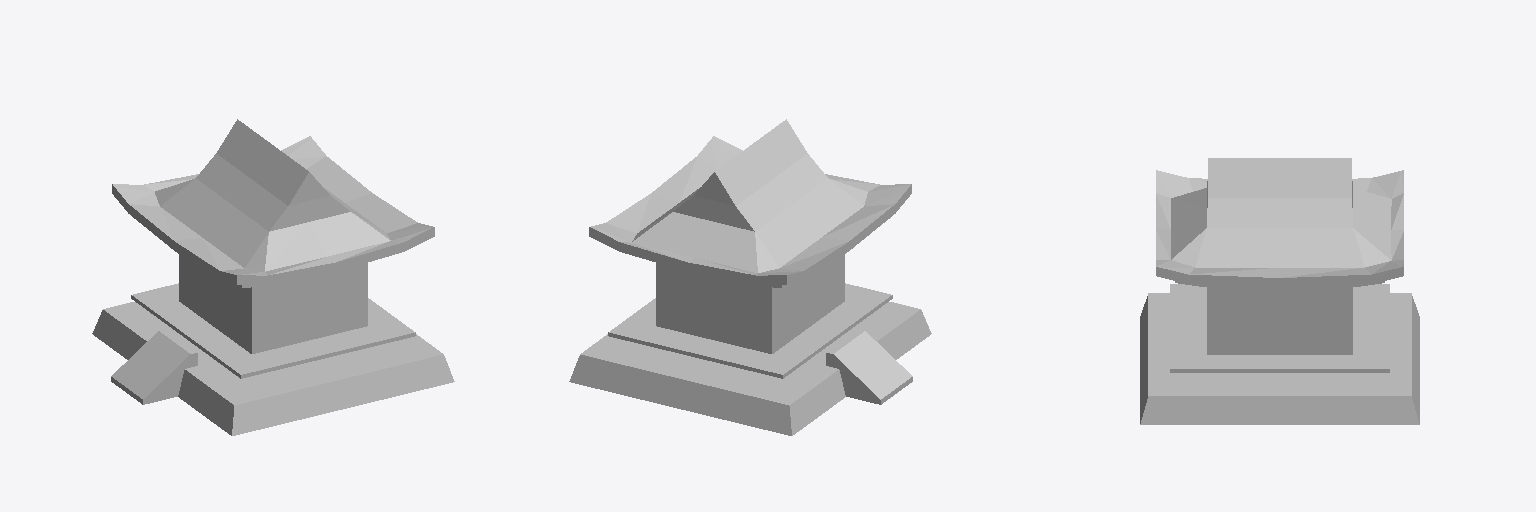
File: House_beta.obj
3 views of the same model, side by side, from view 1: azimuth 30°, elevation 25°; view 2: azimuth 150°, elevation 25°; view 3: azimuth 270°, elevation 25° (orthographic).
Visible parts, largest first — view 1: pCube20; view 2: pCube20; view 3: pCube20.
Part boxes in pixels (x1,y1,x2,y2): pCube20: (92,119,454,435); pCube20: (569,119,931,435); pCube20: (1140,158,1419,424).
Size of the model in its own units: 640 by 505 by 602.